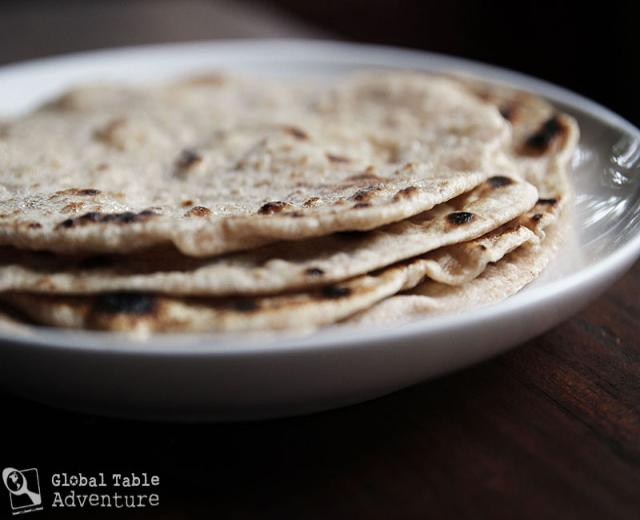chapati: (0, 69, 578, 333)
